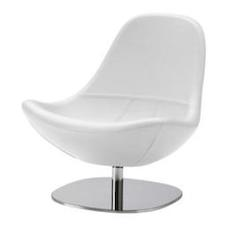chair: (11, 4, 219, 212)
